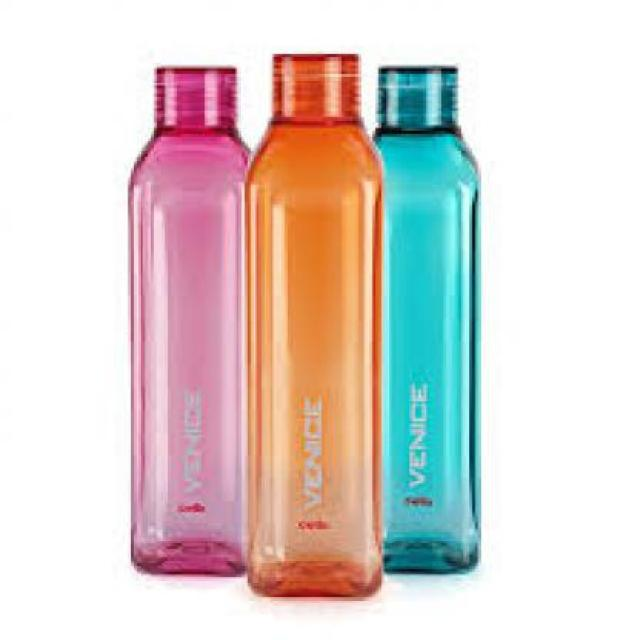Drinking: (131, 43, 258, 580), (264, 54, 383, 614)
